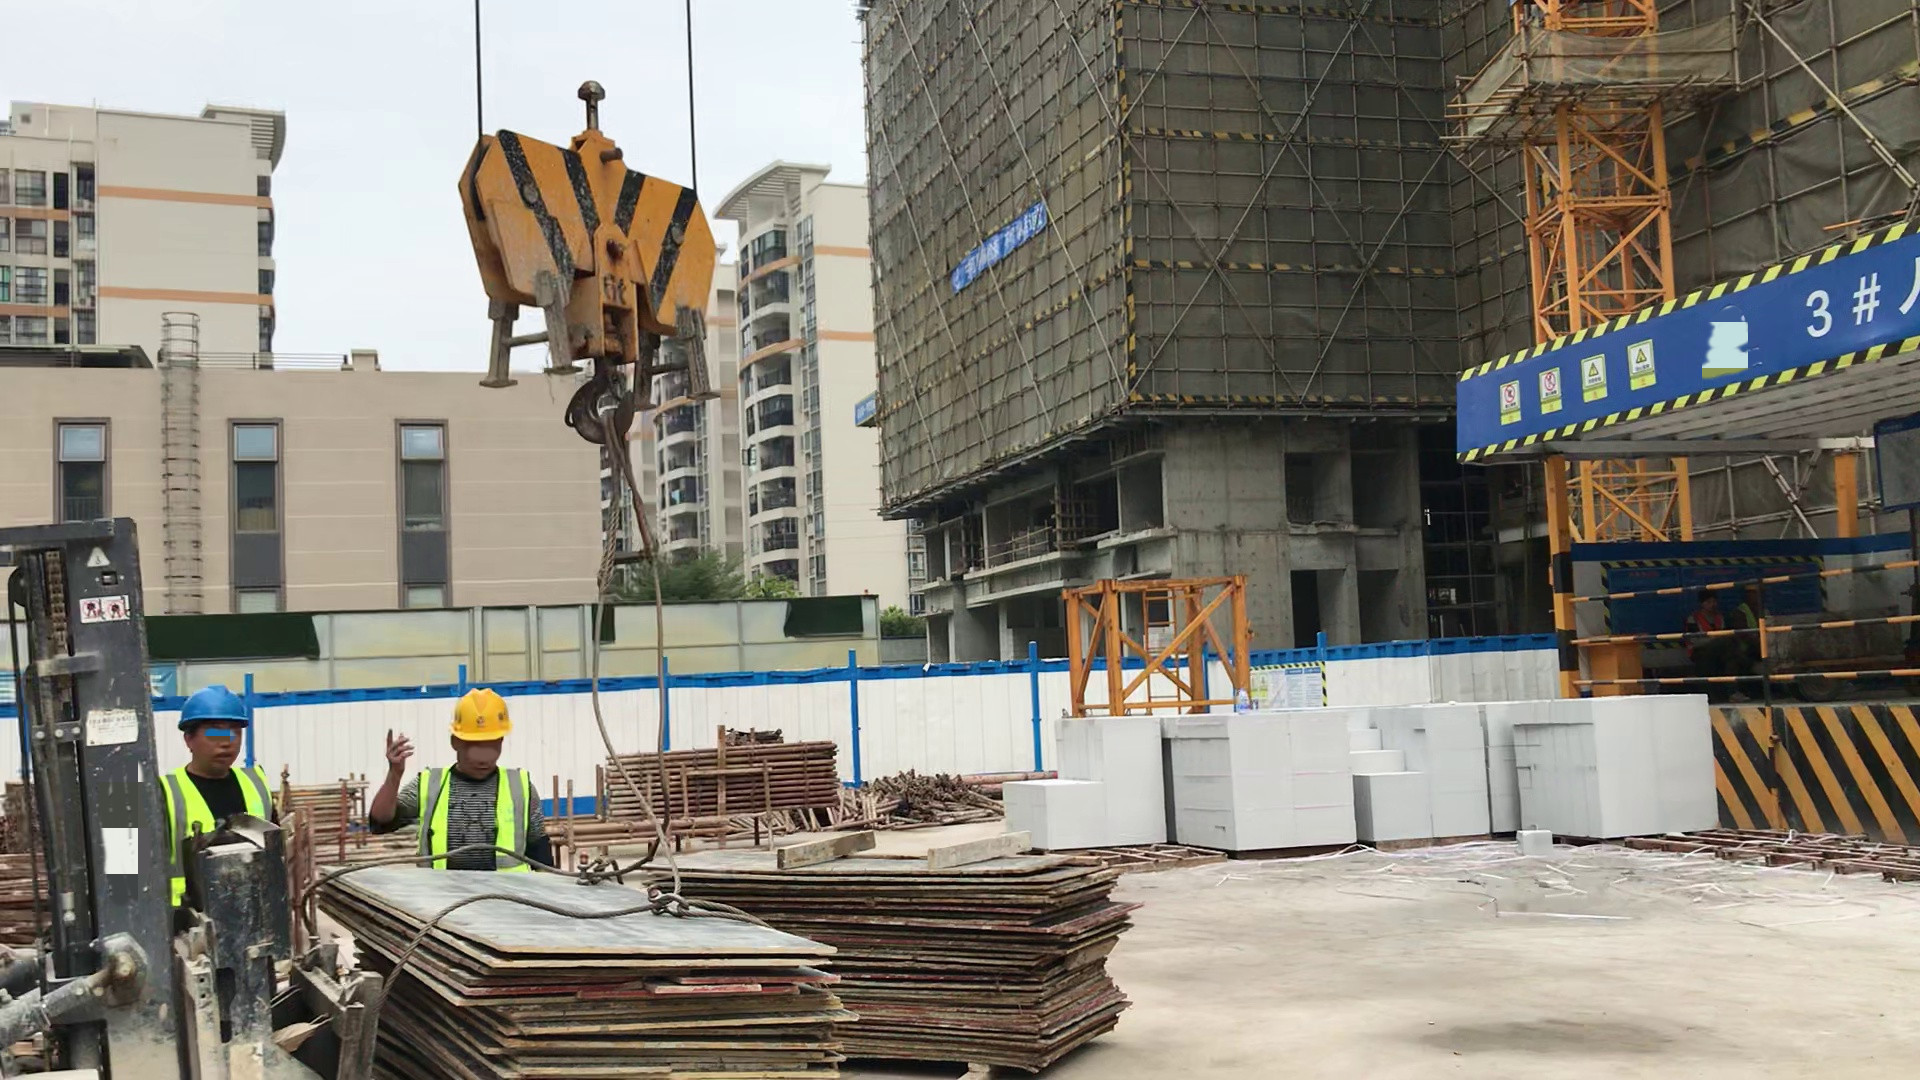board: (290, 852, 867, 1080), (675, 839, 1139, 1067)
brick: (1501, 697, 1727, 839), (1178, 712, 1368, 856), (998, 705, 1176, 855), (1364, 692, 1498, 849)
helmet: (445, 683, 516, 743), (175, 683, 255, 729)
hook: (450, 68, 718, 400)
person: (367, 685, 567, 880), (163, 691, 296, 932)
scaffold: (597, 713, 844, 824)
slogan: (1459, 230, 1920, 431), (956, 207, 1059, 294)
vest: (170, 774, 284, 913), (414, 772, 536, 869)
